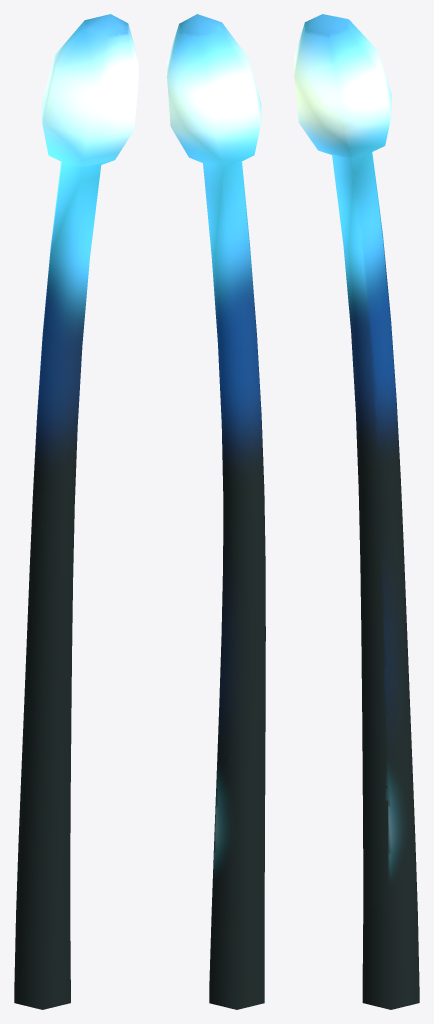
Rendered from SM_GlowingPlant_a.fbx.
The picture shows the model from 3 angles, left to right: view 1: azimuth 90°, elevation 25°; view 2: azimuth 210°, elevation 25°; view 3: azimuth 270°, elevation 25°; orthographic projection. The views are drawn at different scales.
Visible parts, largest first — view 1: SM_GlowingPlant_a; view 2: SM_GlowingPlant_a; view 3: SM_GlowingPlant_a.
Part boxes in pixels (x1,y1,x2,y2): SM_GlowingPlant_a: (14,14,138,1009); SM_GlowingPlant_a: (167,14,265,1009); SM_GlowingPlant_a: (294,14,419,1009).
Bounding box in the file's own units: 6.65 × 7.73 × 67.18.
